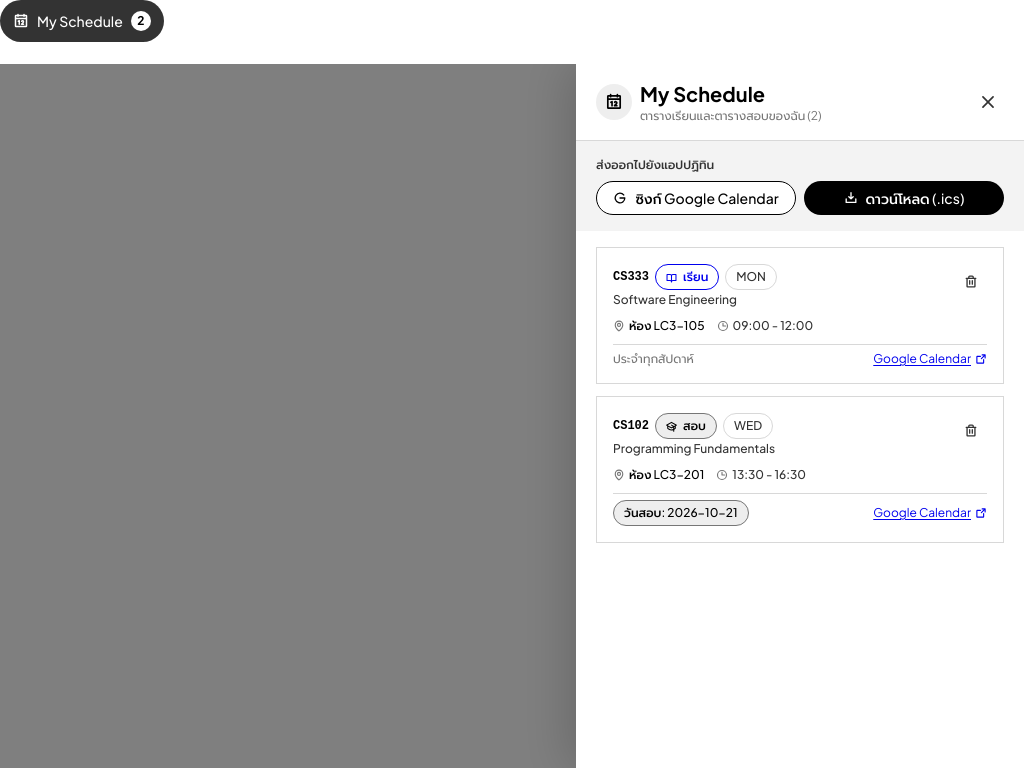
MyScheduleDrawer Component › Google Calendar sync › syncs the pins on click and shows the add/update/delete summary
Click the button with test id "sync-google-button" at coordinates (696, 198), box [596,181,796,215]
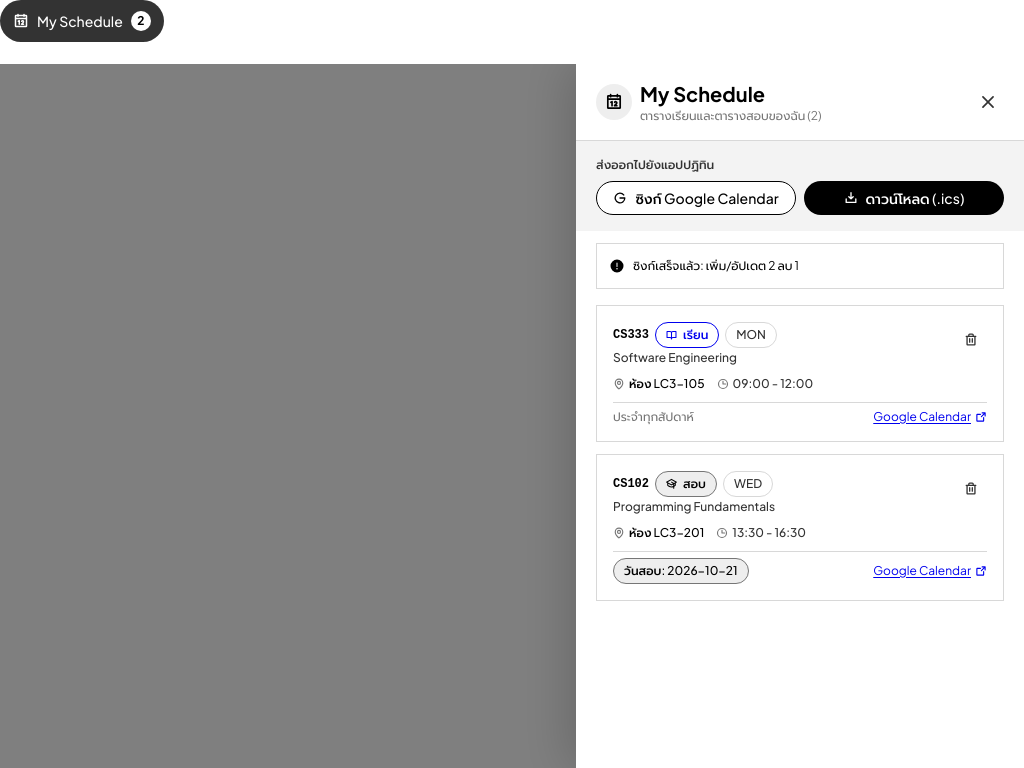
Check: the message with test id "sync-google-result" shows "เพิ่ม/อัปเดต 2 ลบ 1", box [633,258,799,273]
